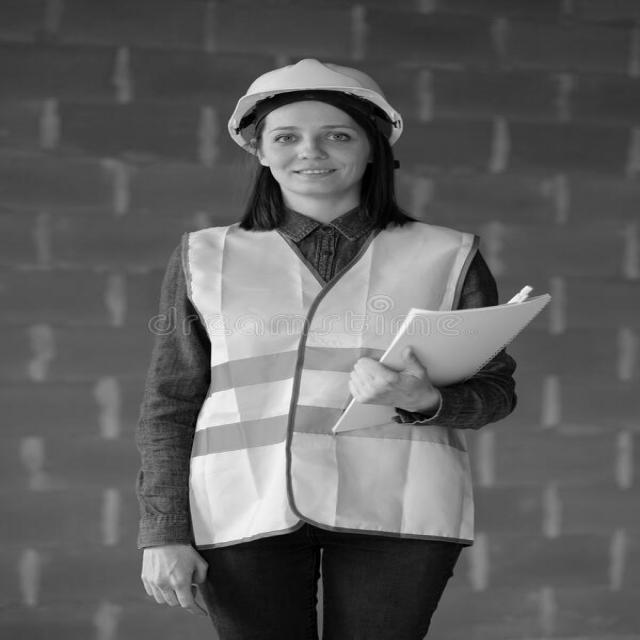safety_helmet: (226, 60, 405, 156)
